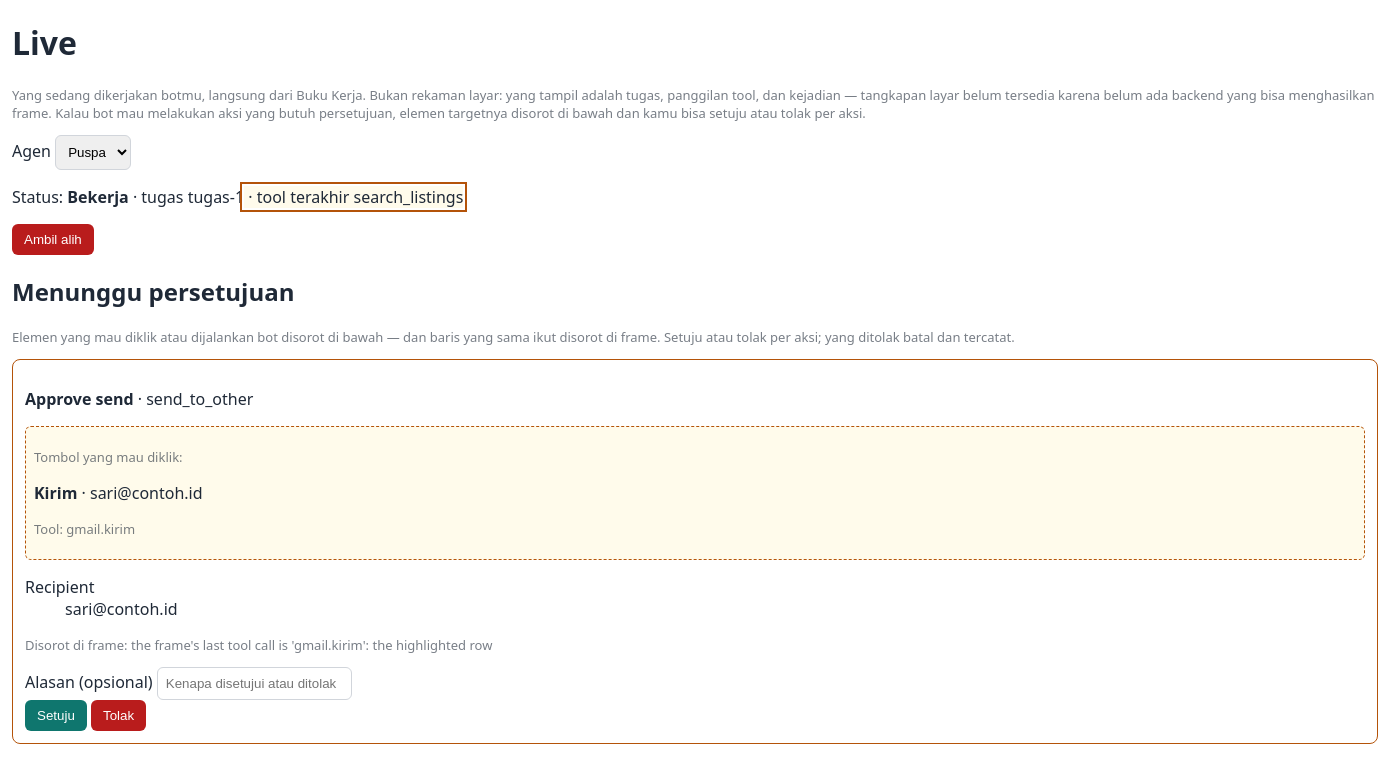
Test: LiveViewScreen (P-09) › approves one overlay and moves it to decided (P-11)
This screenshot has width=1390, height=764.
Click the button "Setuju". click: (56, 715)
box: [25,700,87,731]
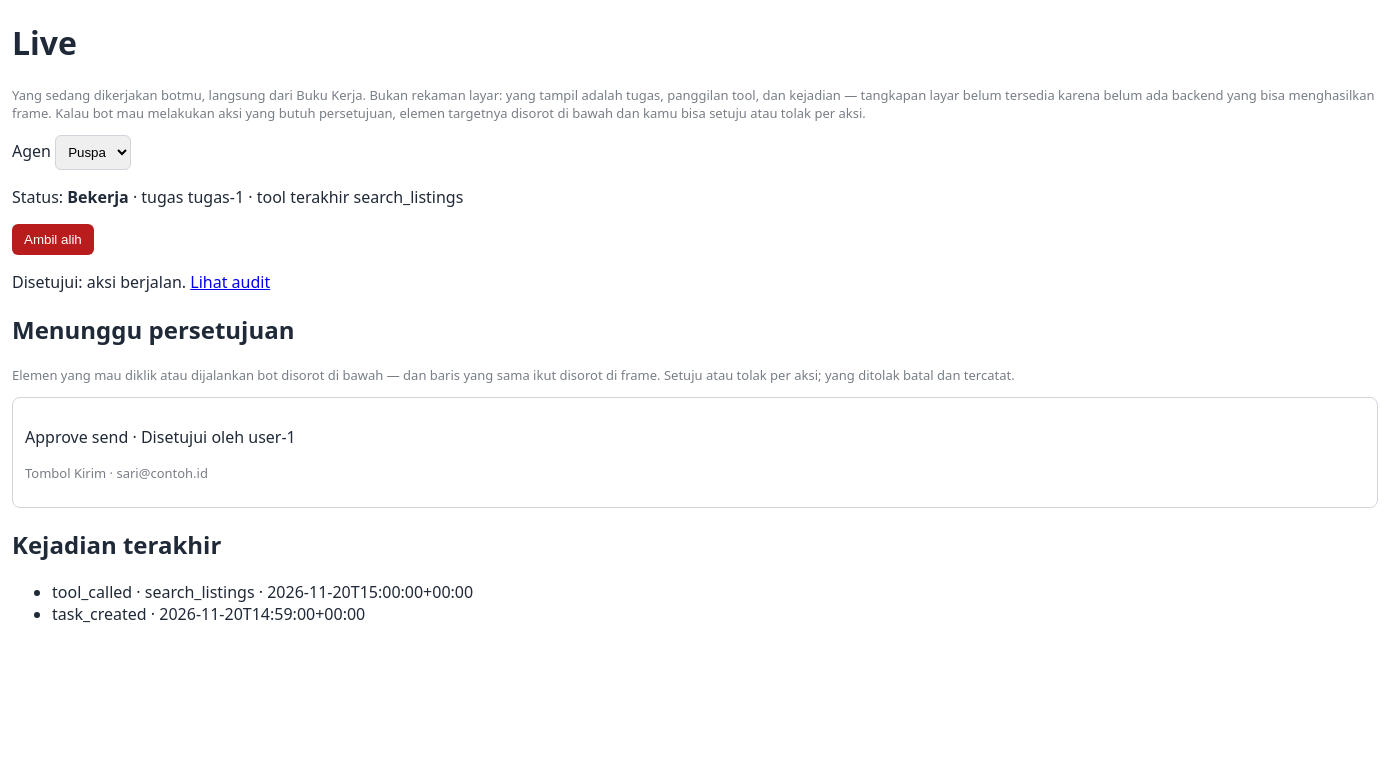
Check: the text "Tolak" is not shown
Check: the text "Disetujui: aksi berjalan. Lihat audit" is shown, box [12,271,270,293]
Check: the text "Approve send · Disetujui oleh user-1" is shown, box [25,426,296,448]
